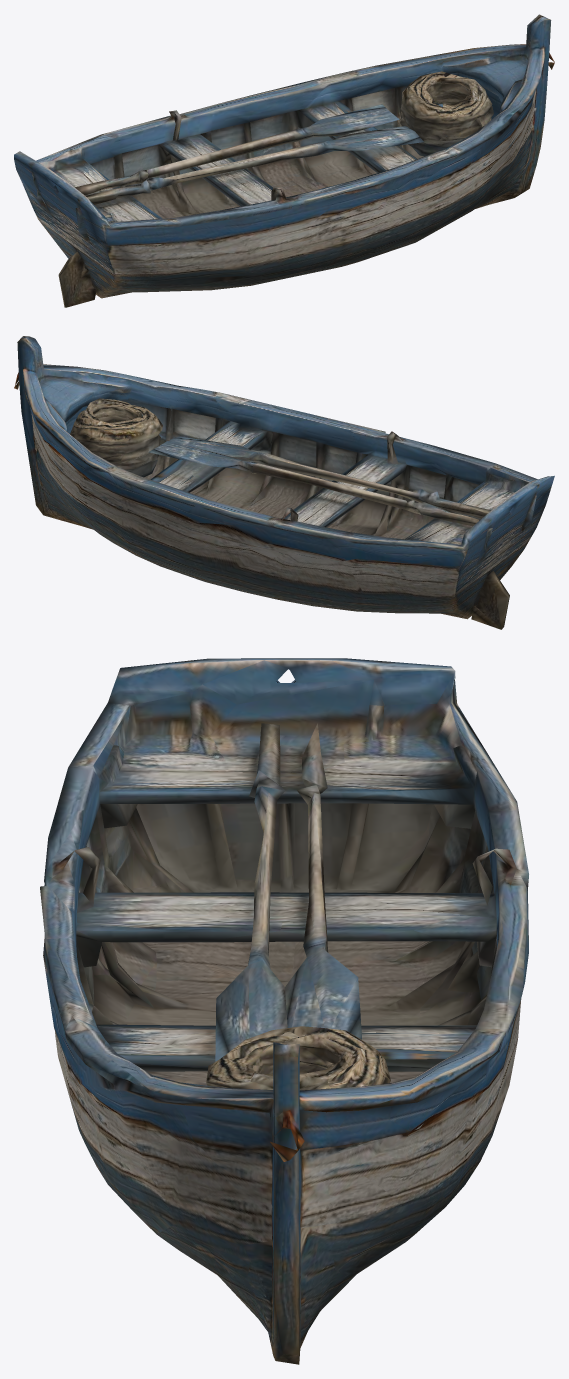
File: prop_rowboat.glb
3 renders of one model, top to bottom at view 1: azimuth 30°, elevation 25°; view 2: azimuth 150°, elevation 25°; view 3: azimuth 270°, elevation 25°, orthographic. The views are drawn at different scales.
Parts seen in each view (by area): view 1: tripo_node_c8f34baa-a8f4-4b5c-9305-098a7449c995; view 2: tripo_node_c8f34baa-a8f4-4b5c-9305-098a7449c995; view 3: tripo_node_c8f34baa-a8f4-4b5c-9305-098a7449c995.
Boxes of the visible parts, box(x1,y1,x2,y2) form: tripo_node_c8f34baa-a8f4-4b5c-9305-098a7449c995: box(14, 14, 554, 307); tripo_node_c8f34baa-a8f4-4b5c-9305-098a7449c995: box(14, 336, 554, 629); tripo_node_c8f34baa-a8f4-4b5c-9305-098a7449c995: box(40, 658, 528, 1364).
Bounding box in the file's own units: 0.979 × 0.3282 × 0.4152.
1 material, 1 textured.
